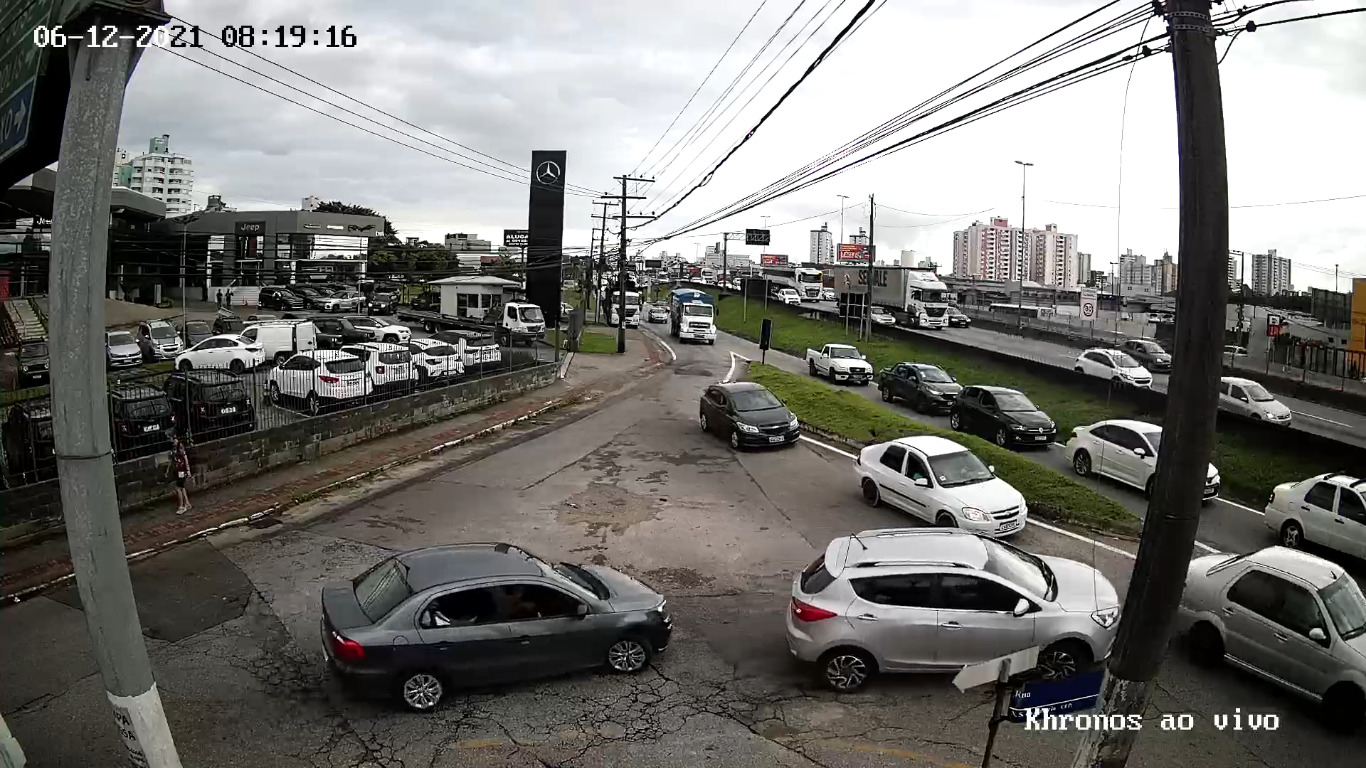car: (320, 541, 670, 711), (784, 530, 1121, 692), (1171, 545, 1366, 736), (855, 435, 1028, 538), (698, 384, 801, 454)
